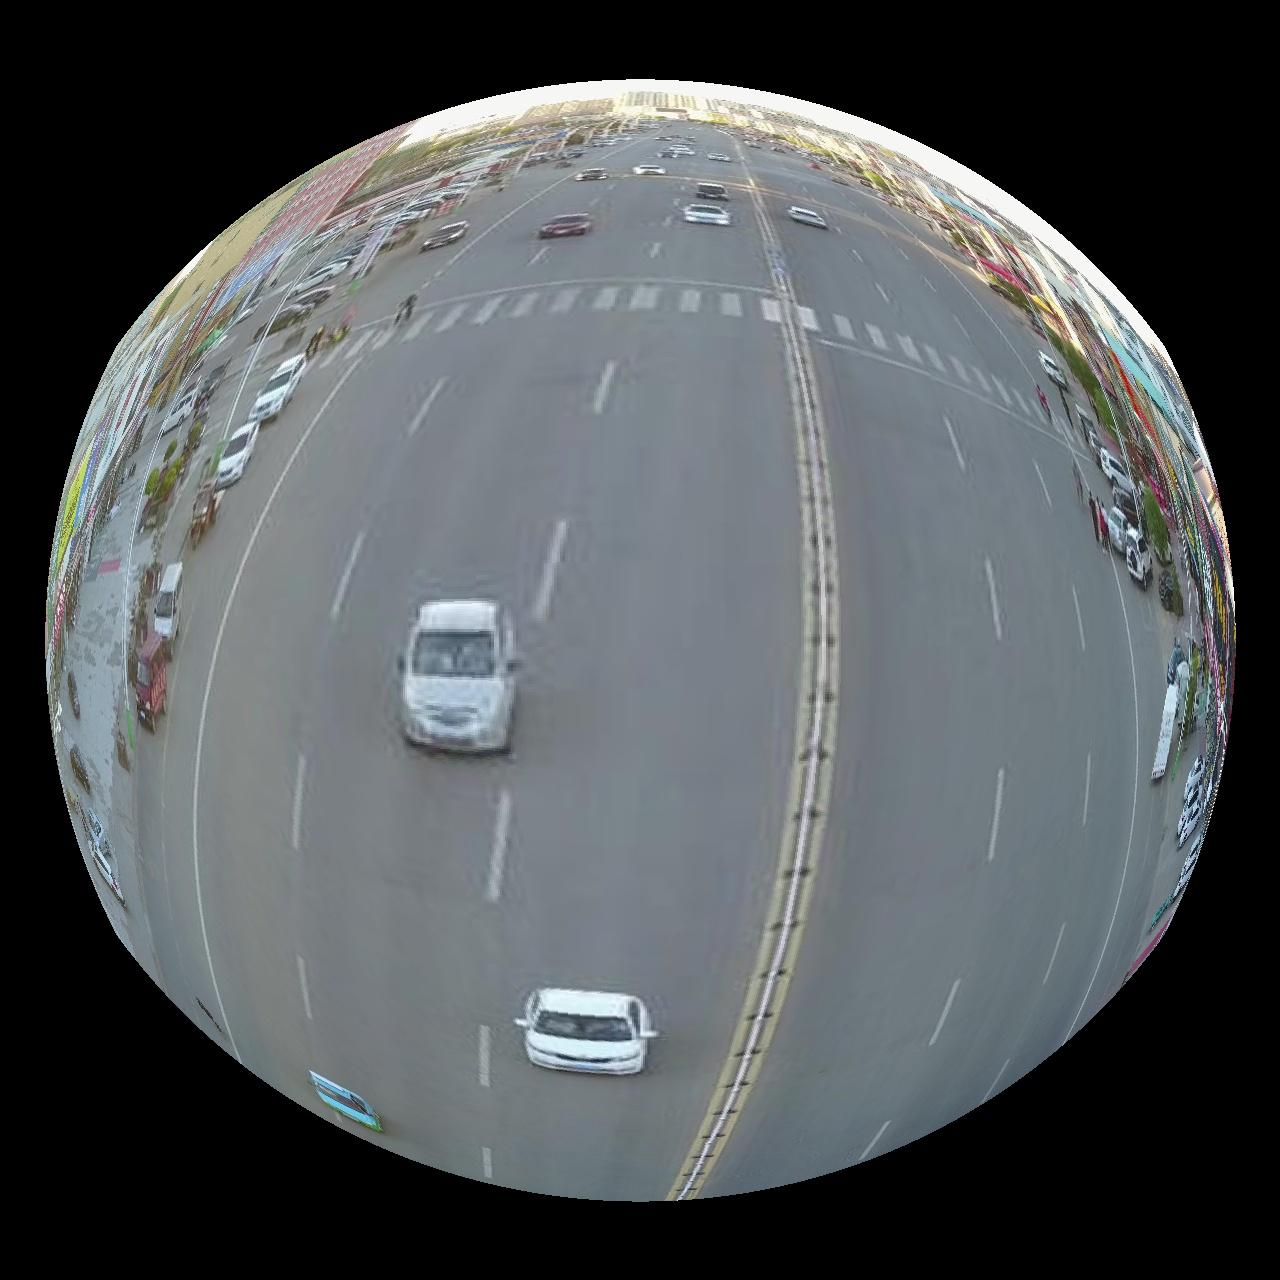cars: (400, 601, 515, 753), (515, 990, 658, 1076), (308, 1073, 380, 1133), (247, 352, 306, 422), (213, 421, 258, 489), (538, 211, 592, 238), (683, 203, 731, 225), (788, 204, 829, 227)
